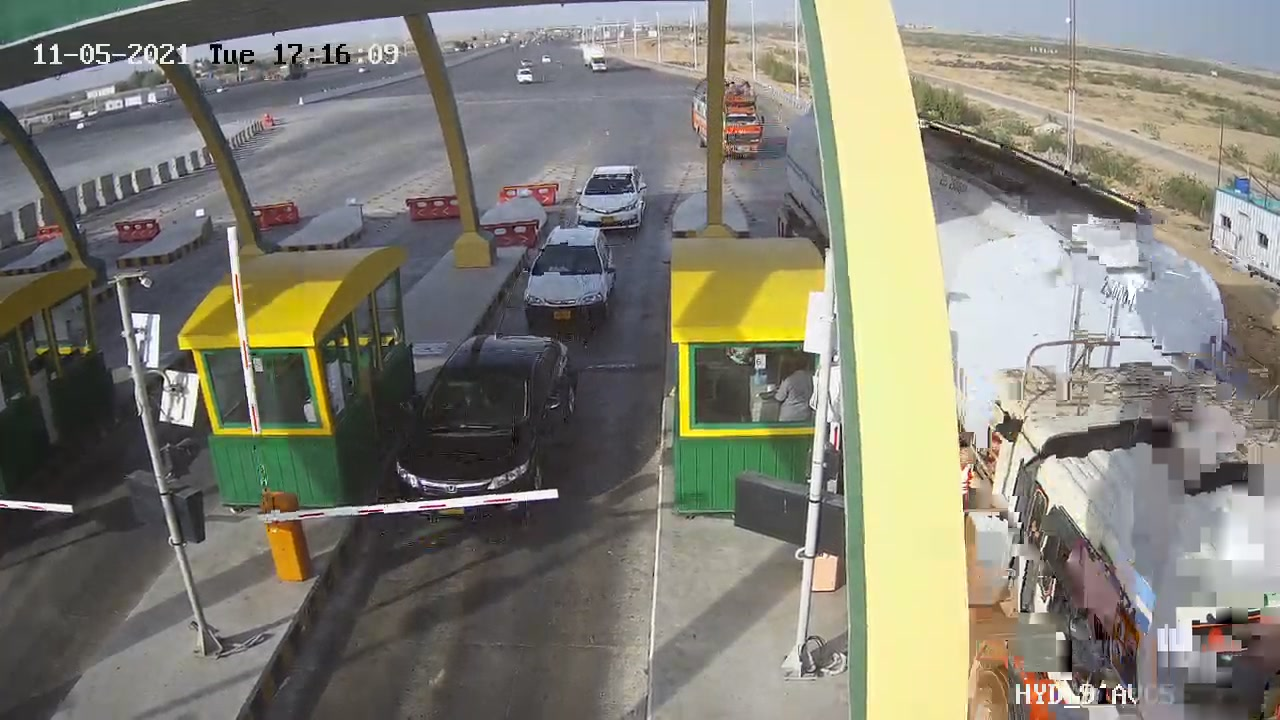F1: (383, 322, 595, 533)
